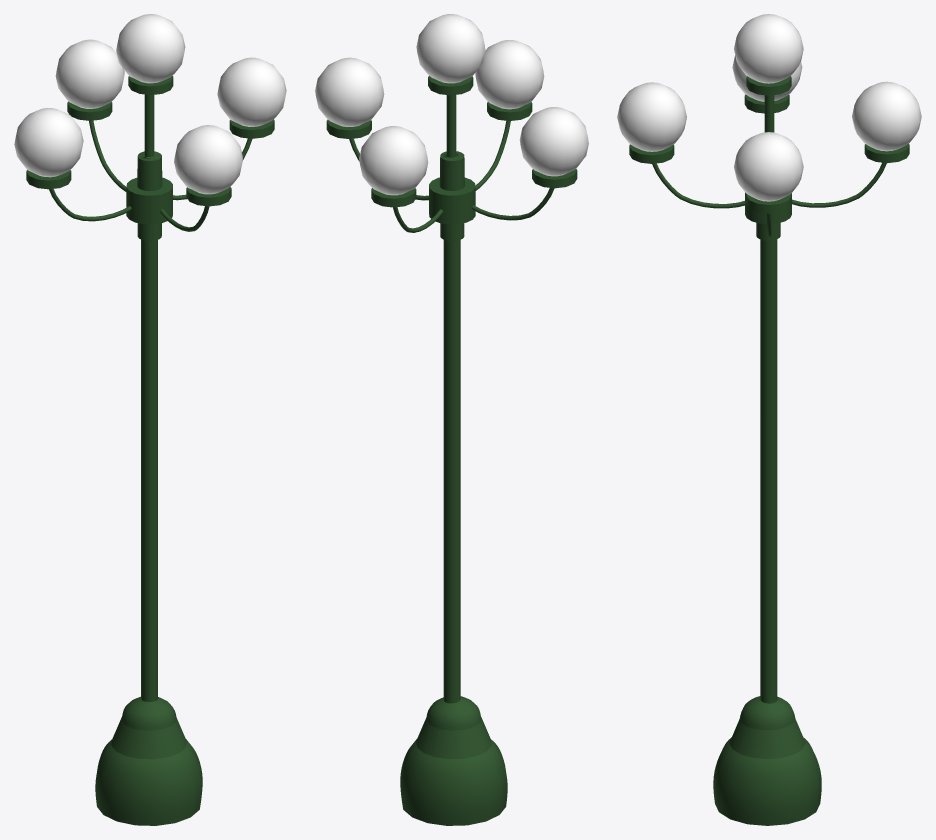
File: Denduong.fbx
3 renders of one model, left to right at view 1: azimuth 30°, elevation 25°; view 2: azimuth 150°, elevation 25°; view 3: azimuth 270°, elevation 25°, orthographic.
Parts seen in each view (by area): view 1: Sphere02; view 2: Sphere02; view 3: Sphere02.
Part boxes in pixels (left/top/right/bottom): Sphere02: left=14, top=14, right=286, bottom=825; Sphere02: left=315, top=14, right=588, bottom=825; Sphere02: left=617, top=14, right=921, bottom=825.
Size of the model in its own units: 499 by 497 by 1417.
